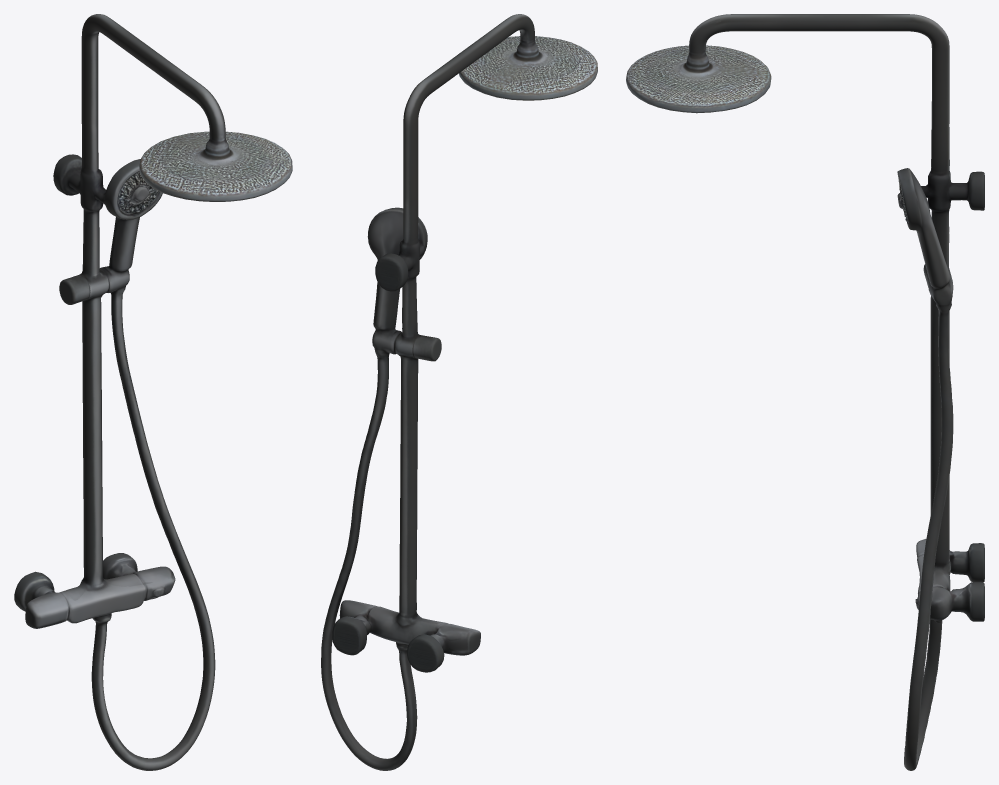
Rendered from shower-black-v2.glb.
The picture shows the model from 3 angles, left to right: view 1: azimuth 30°, elevation 25°; view 2: azimuth 150°, elevation 25°; view 3: azimuth 270°, elevation 25°; orthographic projection. The views are drawn at different scales.
Parts seen in each view (by area): view 1: model; view 2: model; view 3: model.
Part boxes in pixels (<box>): model: <box>14,14,292,770</box>; model: <box>321,14,597,770</box>; model: <box>626,14,984,770</box>.
Size of the model in its own units: 0.4624 by 1.9 by 0.8481.
1 material, 1 textured.
